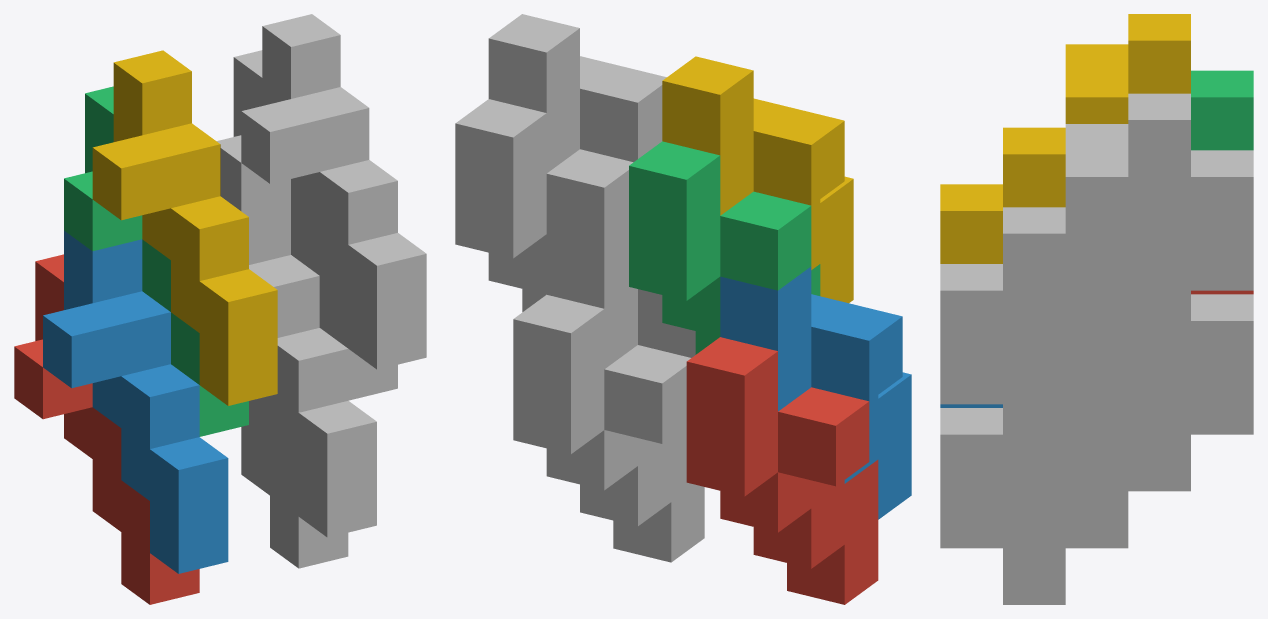
The model's file is tiling.obj.
3 views of the same model, side by side, from view 1: azimuth 30°, elevation 25°; view 2: azimuth 150°, elevation 25°; view 3: azimuth 270°, elevation 25° (orthographic). The views are drawn at different scales.
Parts seen in each view (by area): view 1: copy_1_domain_8, copy_1_domain_4, copy_1_domain_2, copy_1_domain_6, copy_1_domain_1, copy_1_domain_3, copy_1_domain_7, copy_1_domain_5; view 2: copy_1_domain_1, copy_1_domain_5, copy_1_domain_3, copy_1_domain_7, copy_1_domain_4, copy_1_domain_2, copy_1_domain_8, copy_1_domain_6; view 3: copy_1_domain_8, copy_1_domain_5, copy_1_domain_7, copy_1_domain_4, copy_1_domain_6, copy_1_domain_3.
Part boxes in pixels (left/top/right/bottom): copy_1_domain_8: left=241, top=14, right=426, bottom=369; copy_1_domain_4: left=92, top=50, right=277, bottom=405; copy_1_domain_2: left=43, top=230, right=228, bottom=573; copy_1_domain_6: left=245, top=203, right=376, bottom=537; copy_1_domain_1: left=14, top=254, right=199, bottom=604; copy_1_domain_3: left=64, top=86, right=248, bottom=436; copy_1_domain_7: left=216, top=50, right=397, bottom=400; copy_1_domain_5: left=241, top=396, right=348, bottom=568; copy_1_domain_1: left=686, top=337, right=878, bottom=604; copy_1_domain_5: left=513, top=294, right=704, bottom=562; copy_1_domain_3: left=629, top=141, right=820, bottom=354; copy_1_domain_7: left=455, top=99, right=633, bottom=311; copy_1_domain_4: left=662, top=56, right=853, bottom=303; copy_1_domain_2: left=720, top=266, right=911, bottom=519; copy_1_domain_8: left=488, top=14, right=666, bottom=172; copy_1_domain_6: left=546, top=230, right=695, bottom=440; copy_1_domain_8: left=940, top=93, right=1190, bottom=404; copy_1_domain_5: left=1003, top=294, right=1253, bottom=604; copy_1_domain_7: left=1003, top=150, right=1253, bottom=460; copy_1_domain_4: left=940, top=14, right=1190, bottom=263; copy_1_domain_6: left=940, top=347, right=1190, bottom=548; copy_1_domain_3: left=1191, top=70, right=1253, bottom=150.
Size of the model in its own units: 6 by 9 by 5.
